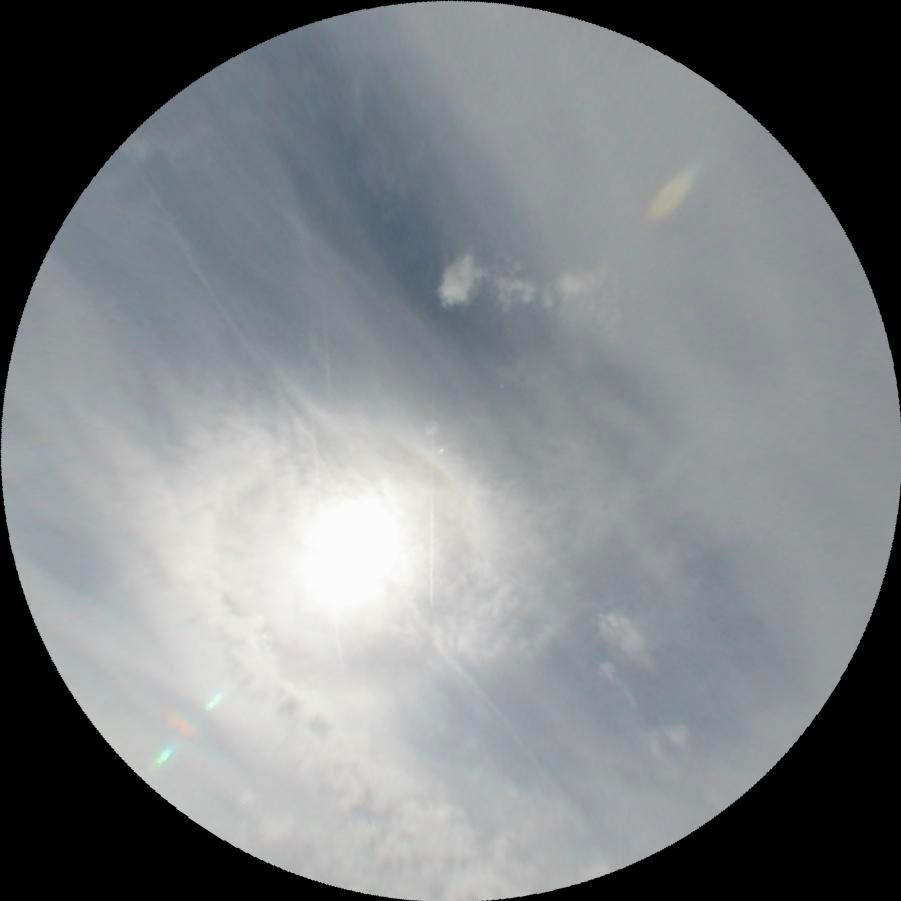contrail old: (111, 155, 563, 806)
contrail young: (308, 431, 345, 672), (428, 374, 437, 604), (320, 299, 330, 383)
sun: (281, 475, 420, 622)
